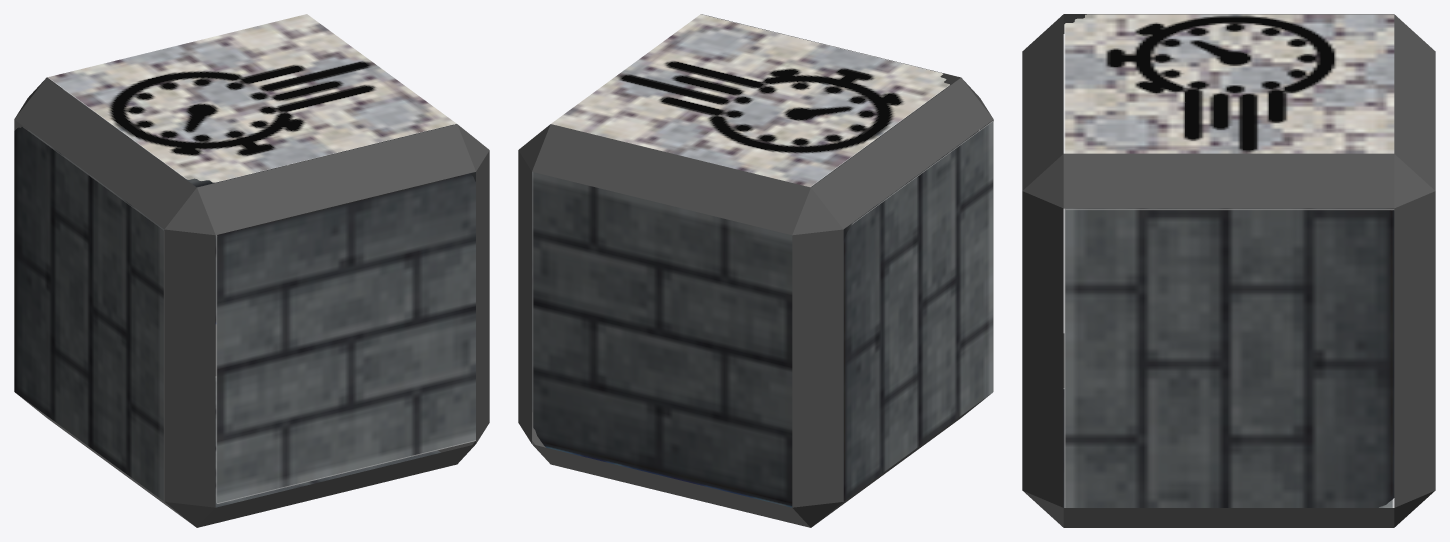
Rendered from Block_TimeLimitDec.fbx.
3 views of the same model, side by side, from view 1: azimuth 30°, elevation 25°; view 2: azimuth 150°, elevation 25°; view 3: azimuth 270°, elevation 25° (orthographic). The views are drawn at different scales.
Parts seen in each view (by area): view 1: pCube2; view 2: pCube2; view 3: pCube2.
Part boxes in pixels (box(x1,y1,x2,y2)): pCube2: box(14, 14, 489, 527); pCube2: box(518, 14, 993, 527); pCube2: box(1022, 14, 1435, 527).
Size of the model in its own units: 1 by 1 by 1.
